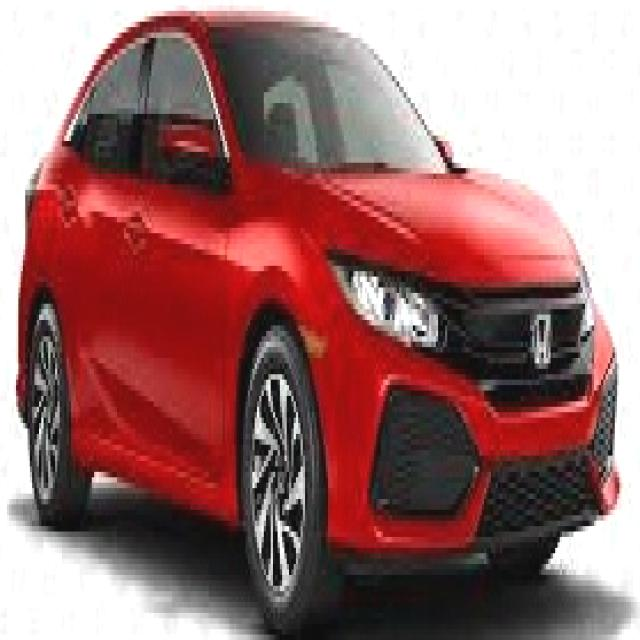red: (12, 8, 616, 537)
